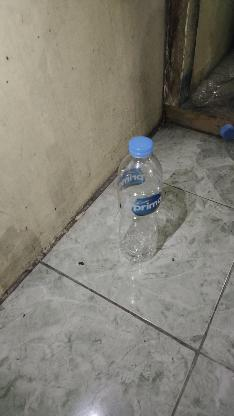Plastic Bottle: (116, 134, 164, 264)
